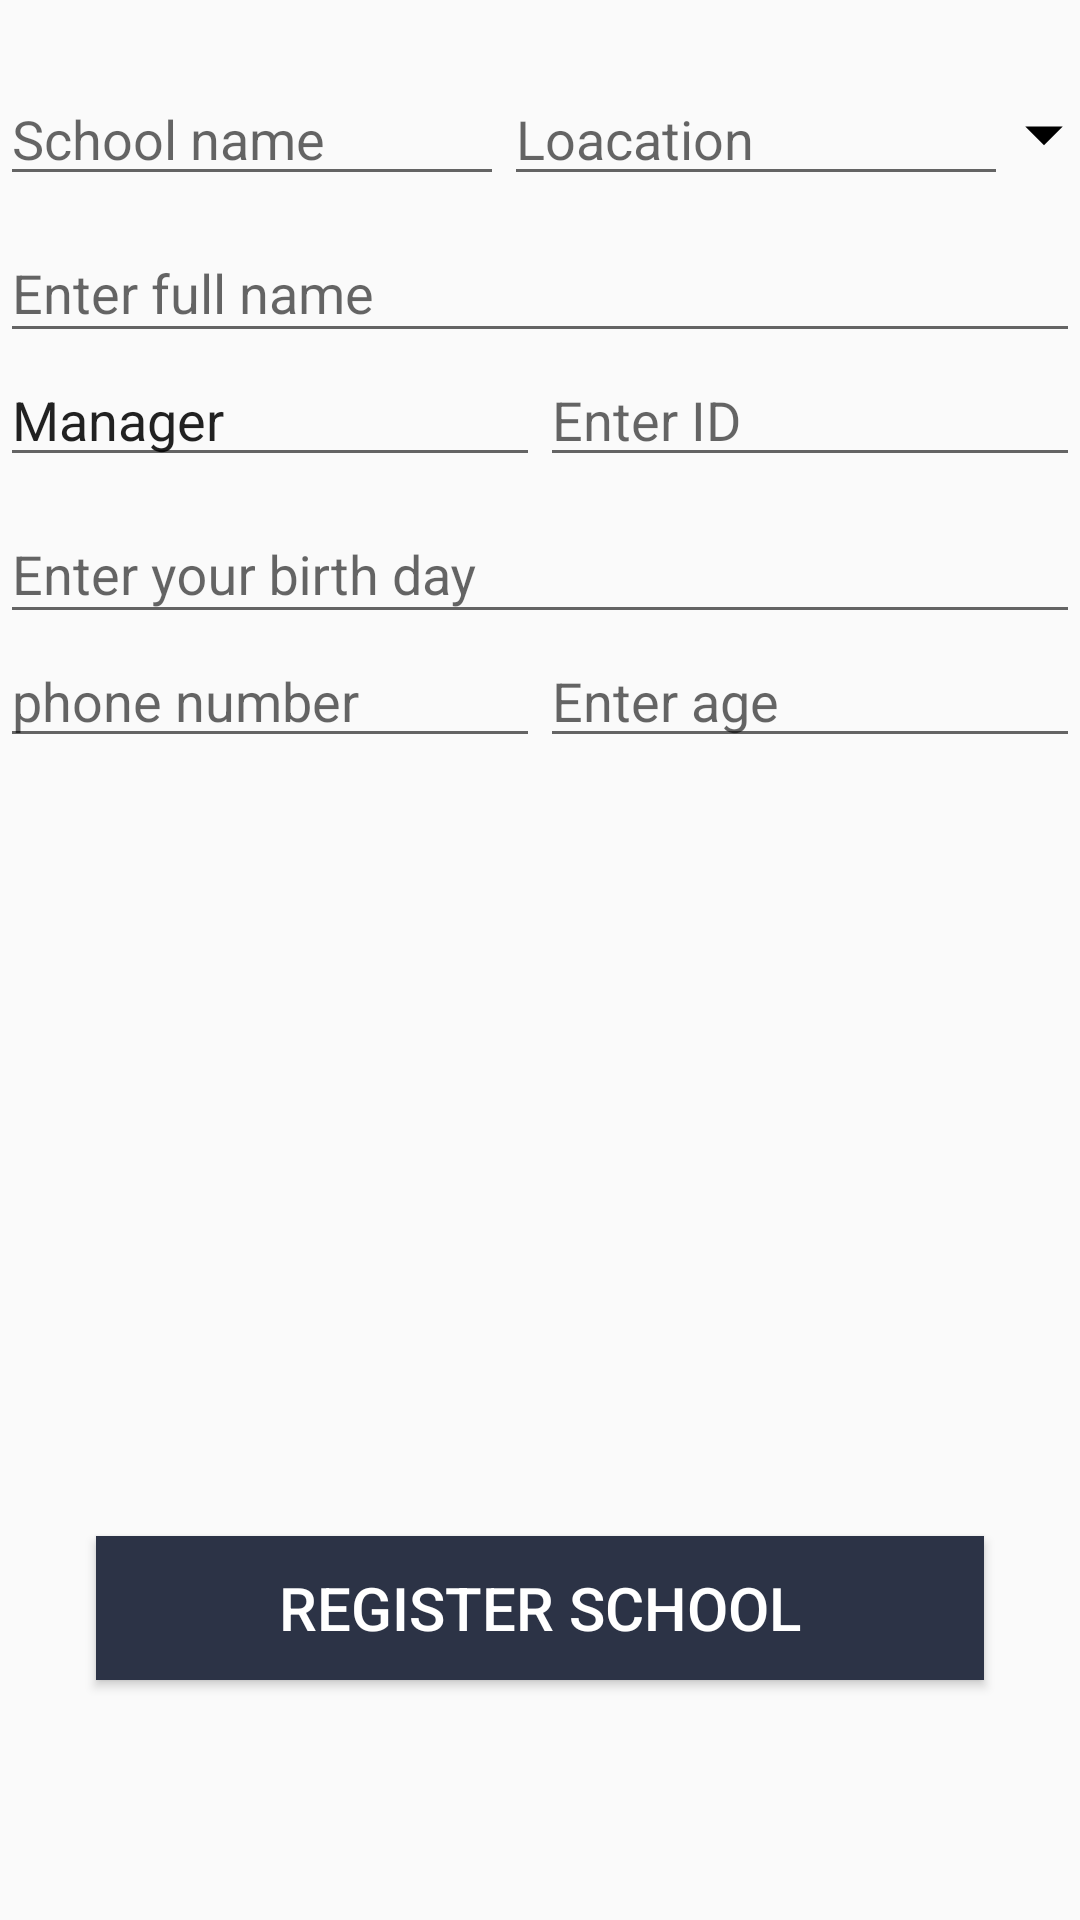

Screen size 1080px×1920px. Icon name, then its center in pixels as [x,y]:
drop down: [1044,135]
